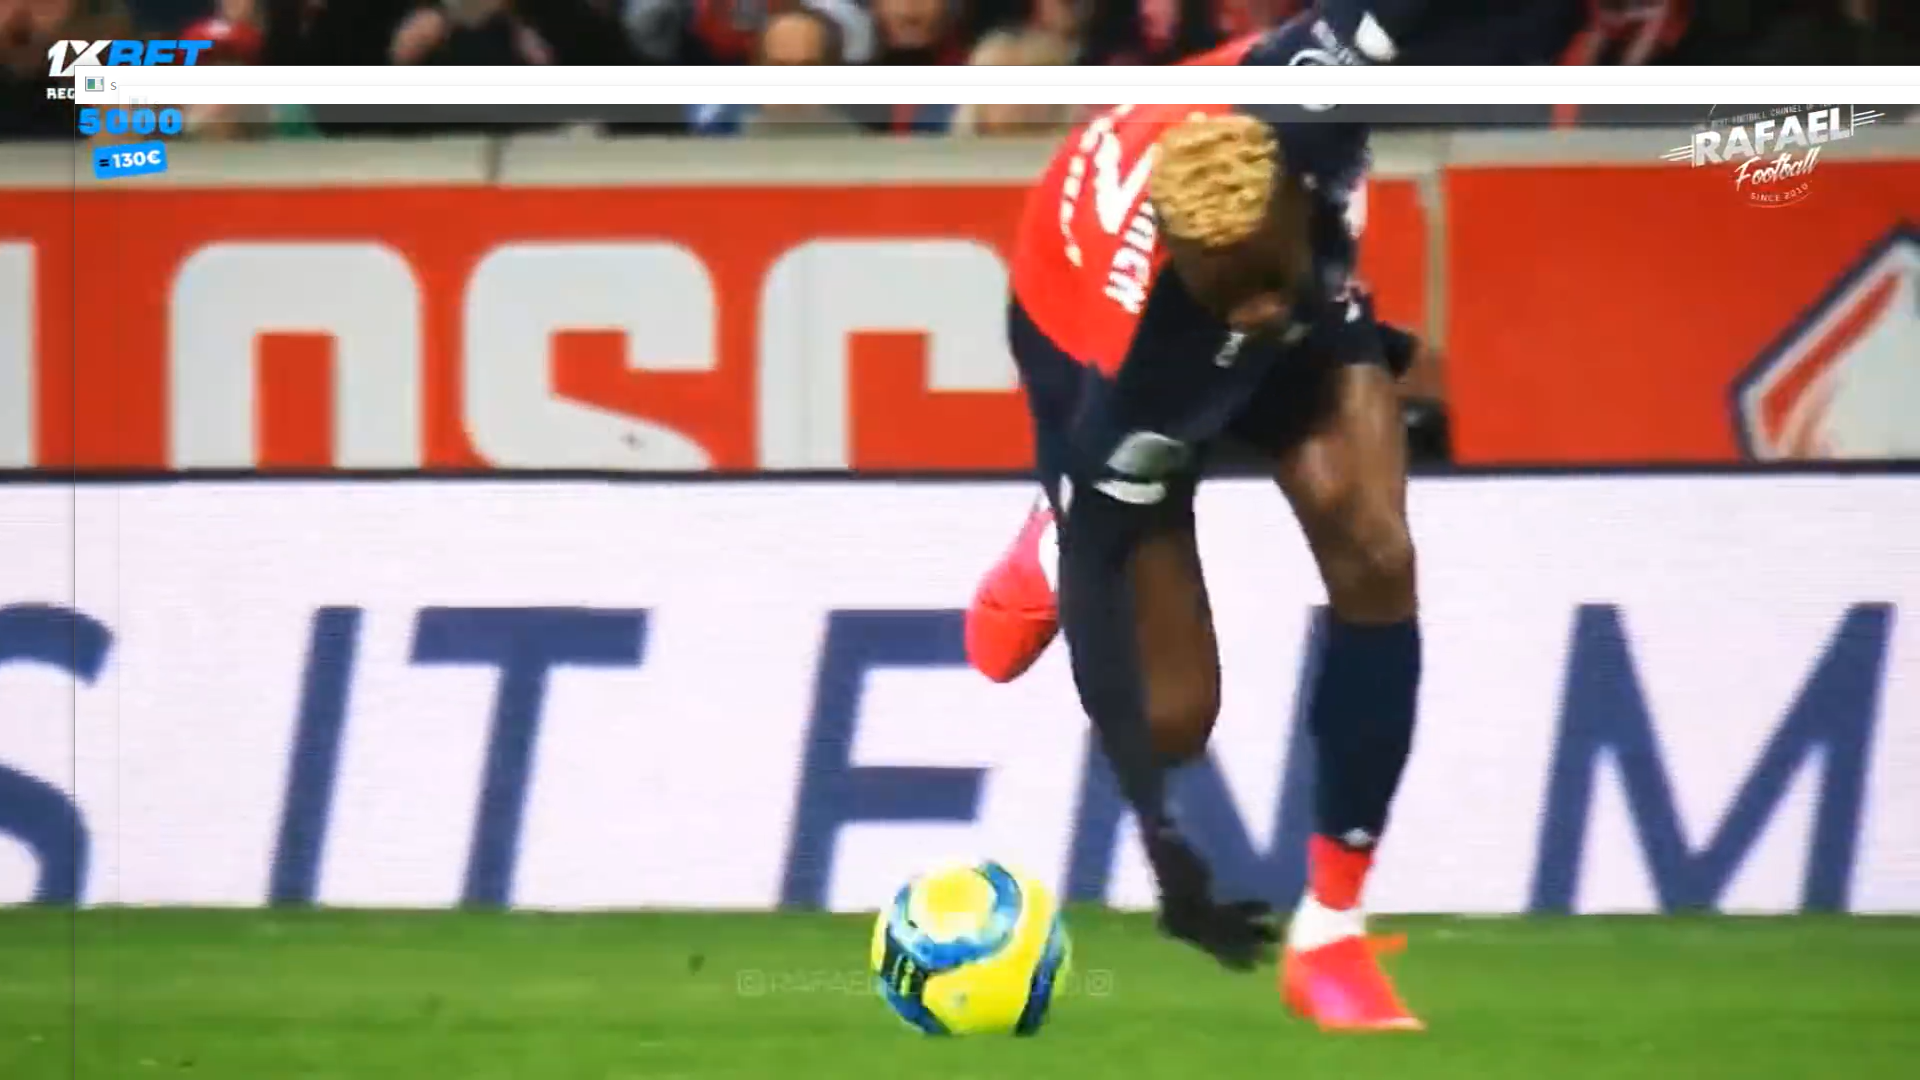ft: (866, 851, 1073, 1064)
